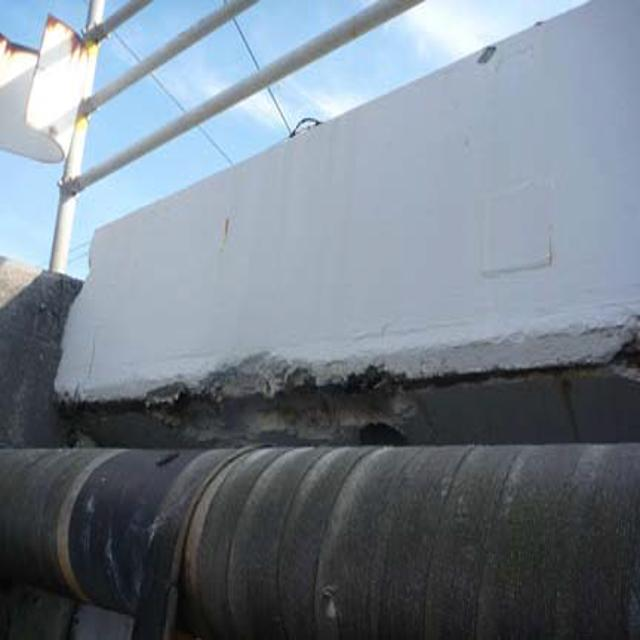spalling: (136, 333, 446, 468)
